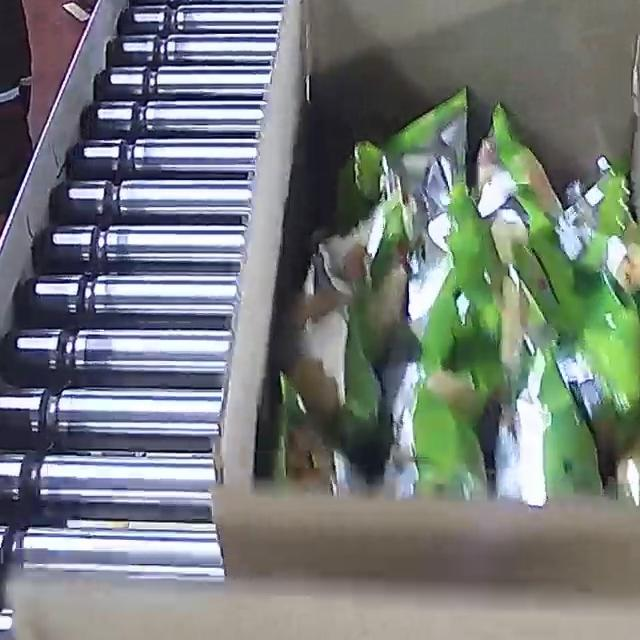yogurt: (275, 85, 640, 507)
